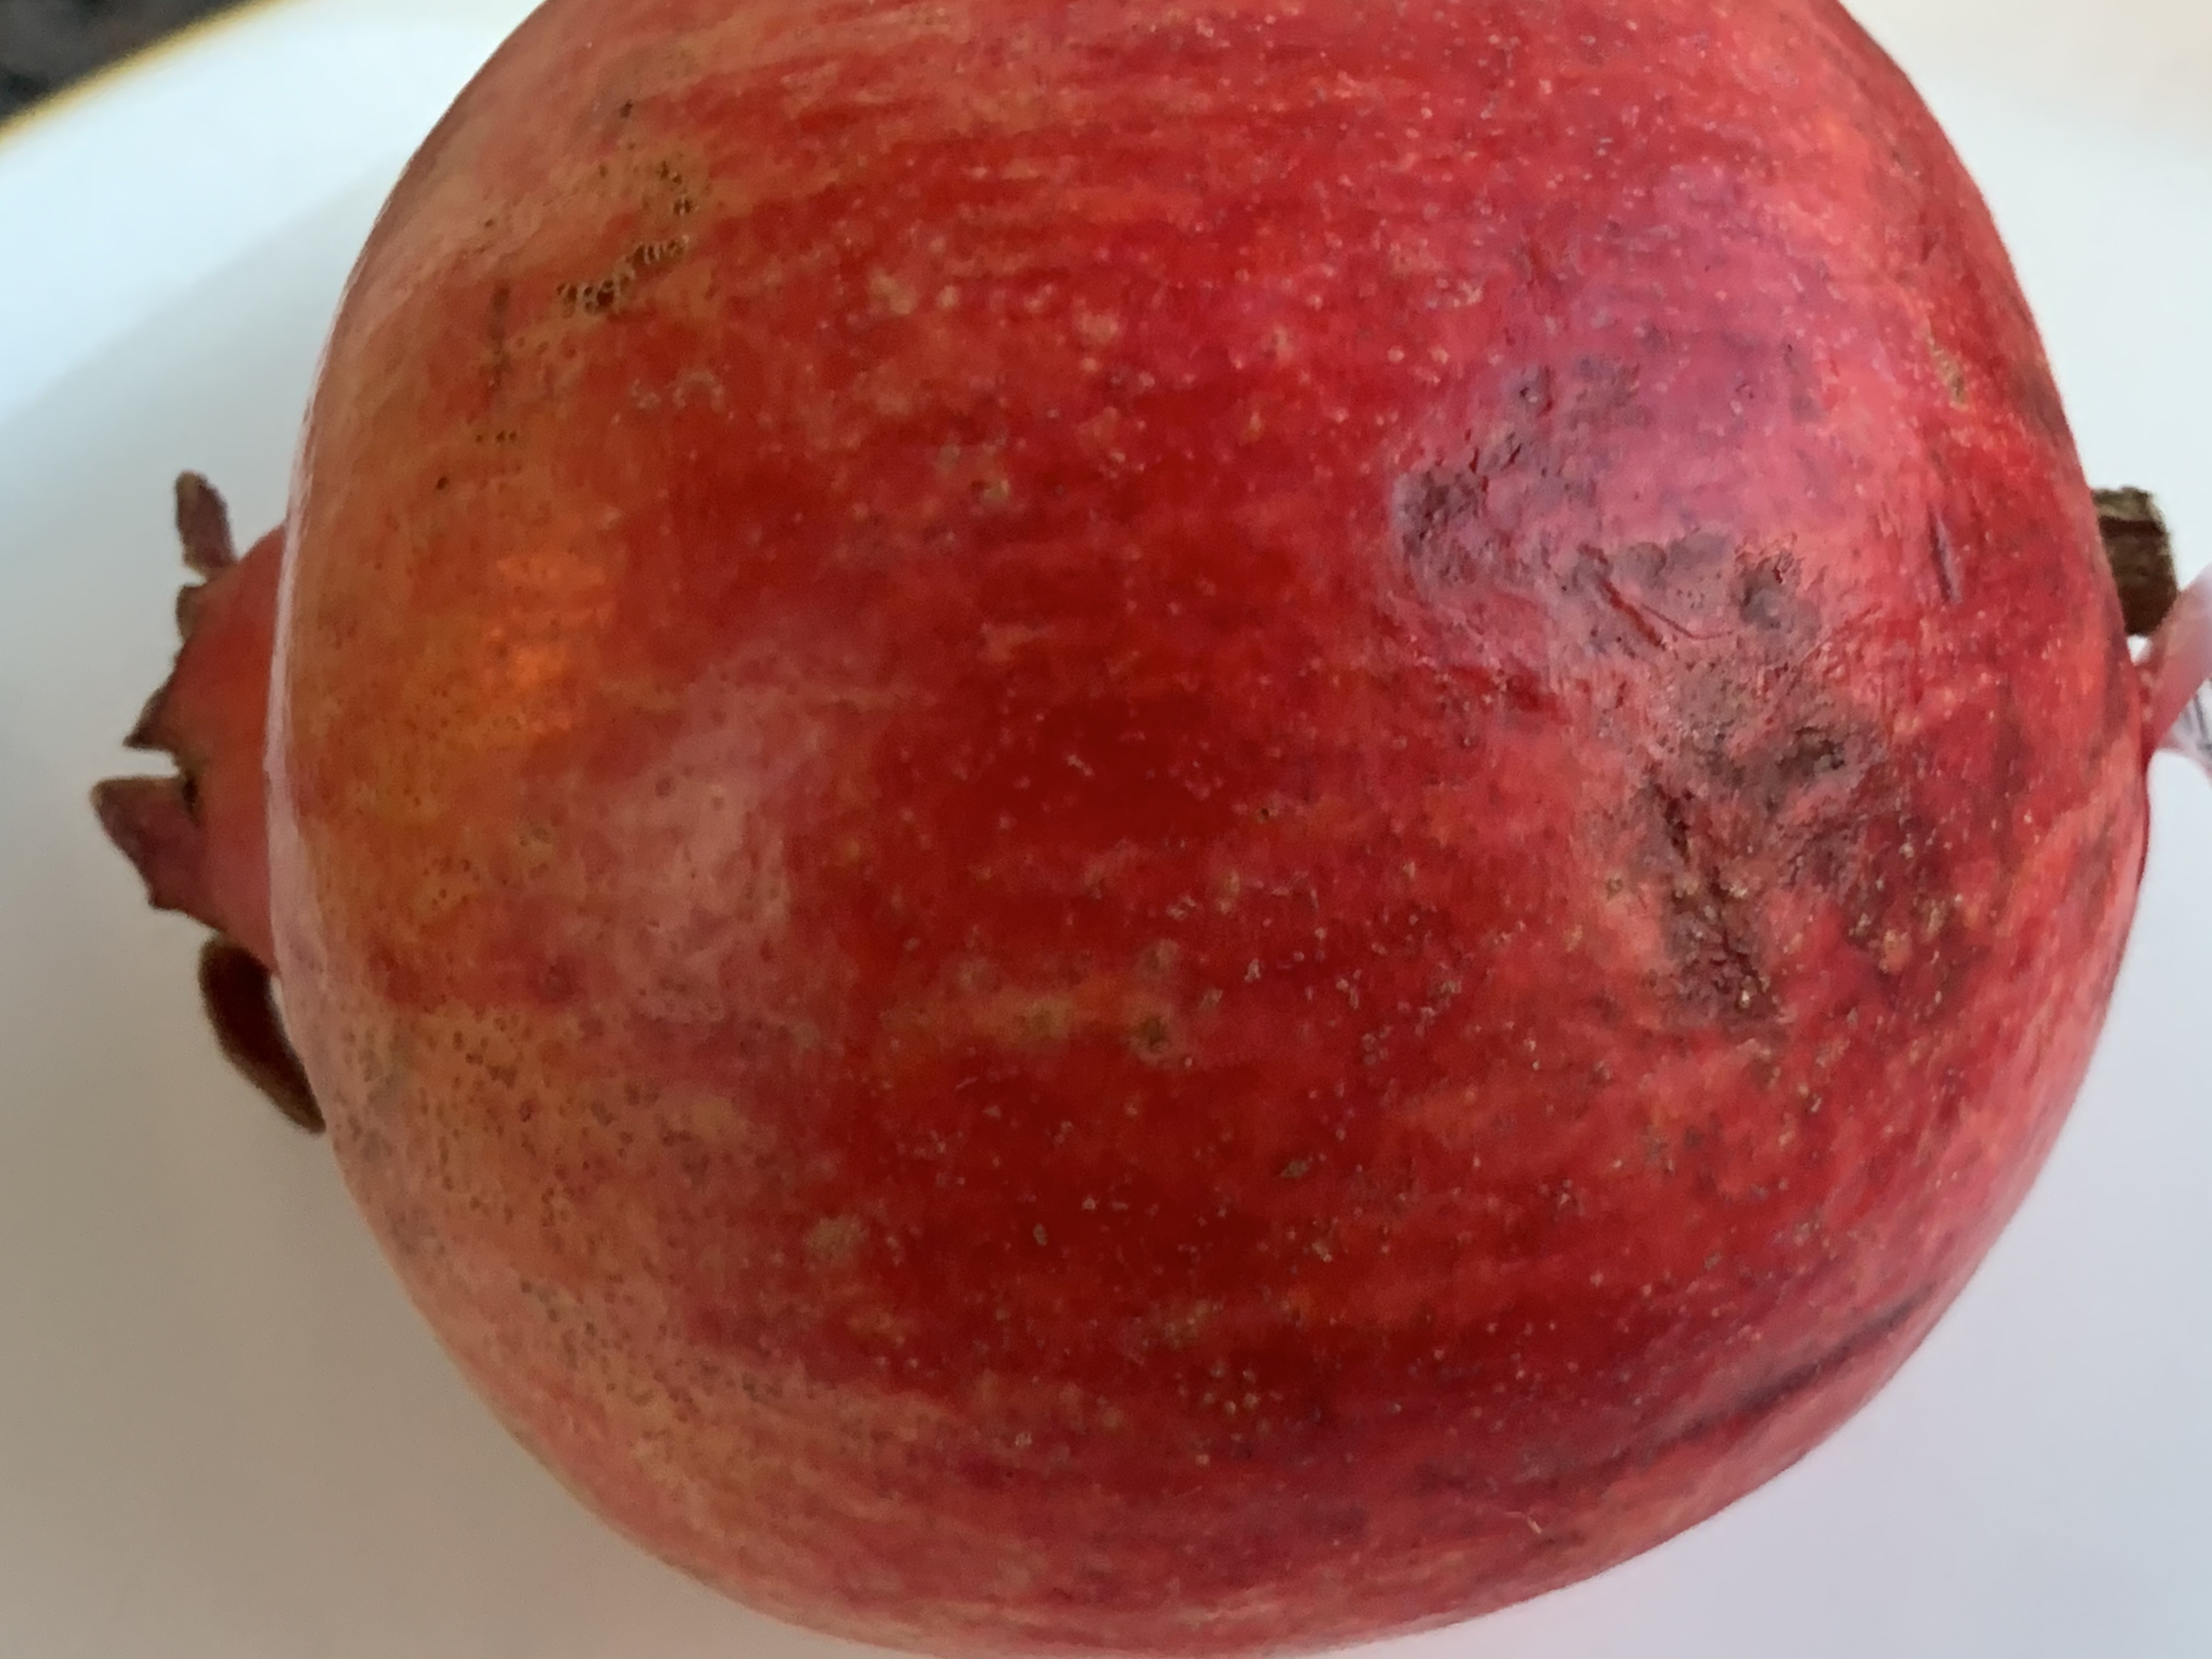Pomegranate: (54, 0, 2207, 1638)
